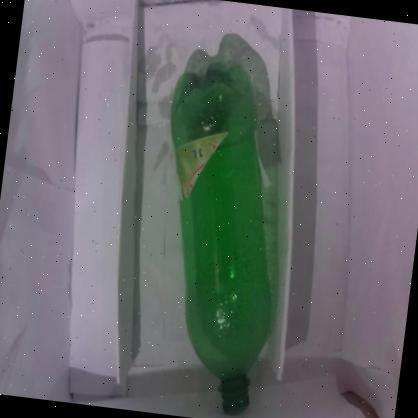bottle: (128, 55, 311, 418)
label: (154, 122, 215, 204)
